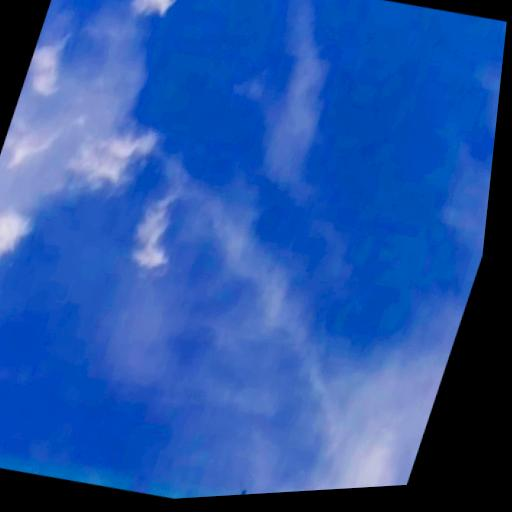drones: (231, 479, 254, 495)
